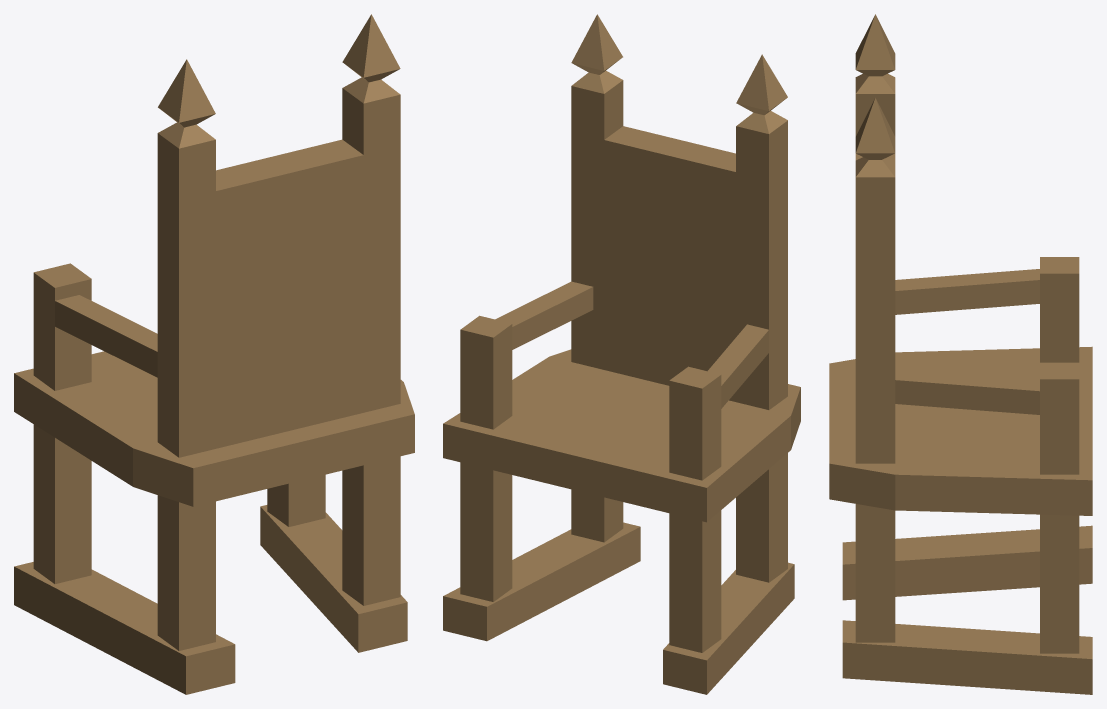
Rendered from throne.obj.
The picture shows the model from 3 angles, left to right: view 1: azimuth 30°, elevation 25°; view 2: azimuth 150°, elevation 25°; view 3: azimuth 270°, elevation 25°; orthographic projection. The views are drawn at different scales.
Parts seen in each view (by area): view 1: Object Throne 2026-09-21_11-27-31; view 2: Object Throne 2026-09-21_11-27-31; view 3: Object Throne 2026-09-21_11-27-31.
Boxes of the visible parts, <box> form: Object Throne 2026-09-21_11-27-31: <box>14,14,414,694</box>; Object Throne 2026-09-21_11-27-31: <box>443,14,800,694</box>; Object Throne 2026-09-21_11-27-31: <box>829,14,1092,694</box>.
Bounding box in the file's own units: 96 × 192 × 80.
